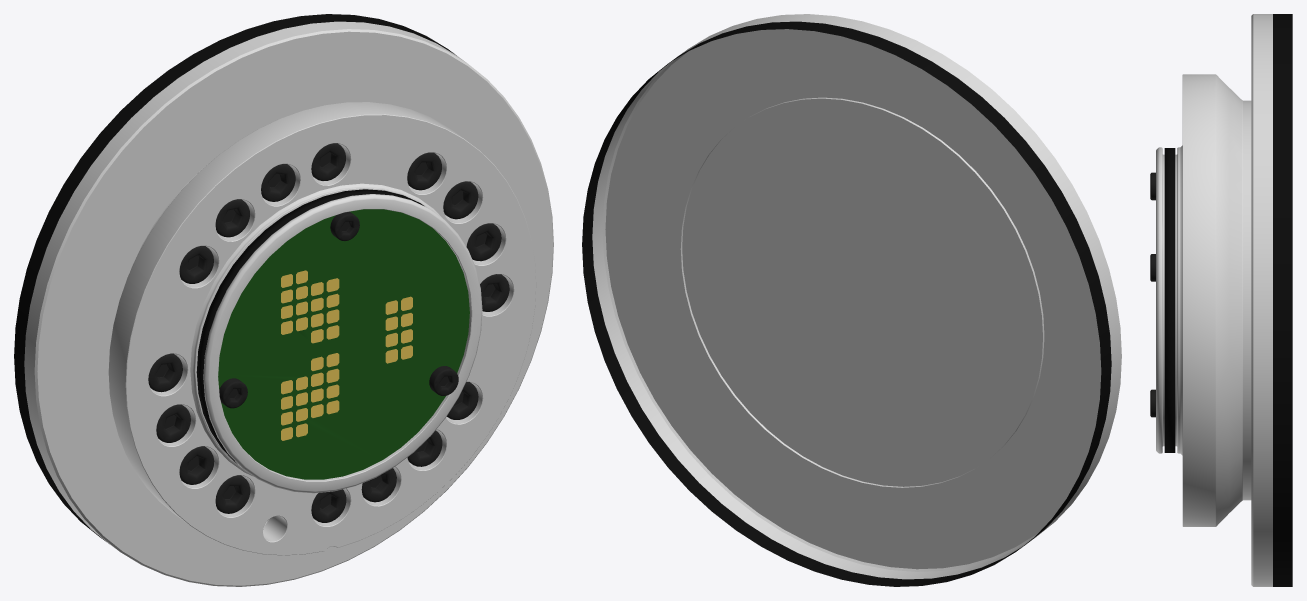
The model's file is D86-papa-distal.glb.
3 views of the same model, side by side, from view 1: azimuth 30°, elevation 25°; view 2: azimuth 150°, elevation 25°; view 3: azimuth 270°, elevation 25° (orthographic). The views are drawn at different scales.
Parts seen in each view (by area): view 1: D86-papa-distal.001; view 2: D86-papa-distal.001; view 3: D86-papa-distal.001.
Boxes of the visible parts, box(x1,y1,x2,y2) form: D86-papa-distal.001: box(14, 14, 553, 586); D86-papa-distal.001: box(582, 14, 1121, 586); D86-papa-distal.001: box(1150, 14, 1292, 586).
Size of the model in its own units: 0.086 by 0.086 by 0.0213.
